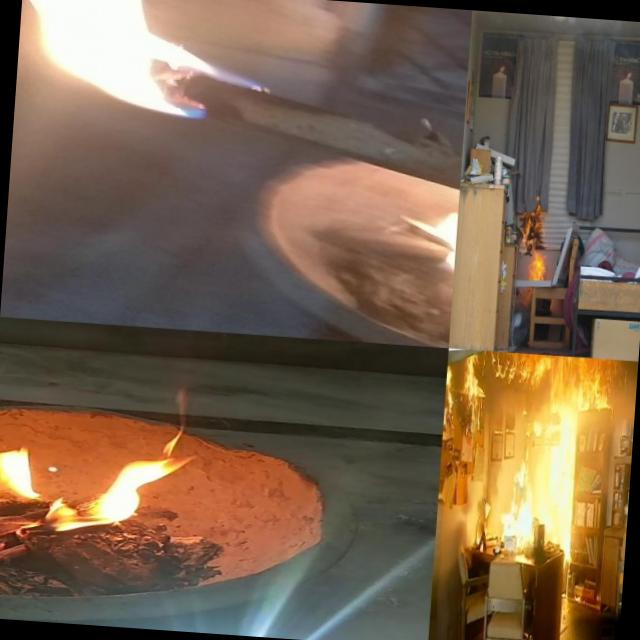fire: (0, 422, 205, 598), (13, 0, 259, 134), (492, 351, 626, 405), (496, 443, 540, 550), (511, 198, 556, 298), (416, 198, 458, 303), (455, 352, 486, 454), (443, 358, 456, 422)
smoke: (470, 10, 640, 46)
